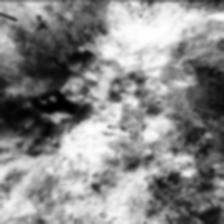Potentially Malignant Skin Tumors: (22, 84, 74, 118)
